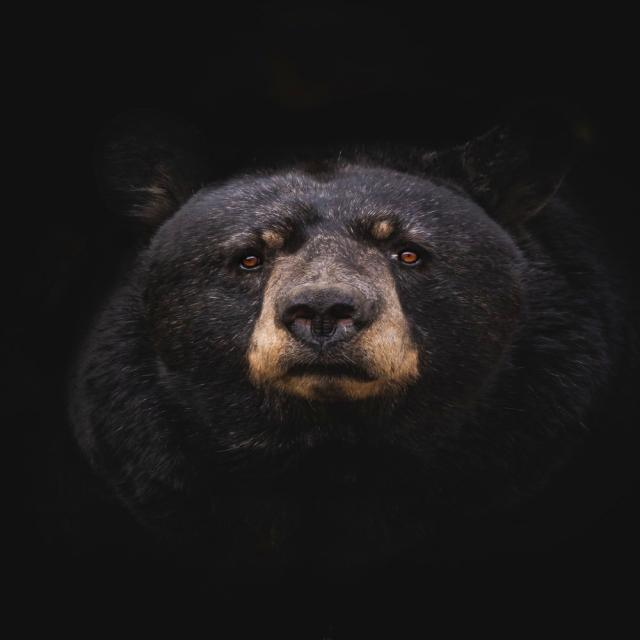bear: (69, 126, 616, 561)
